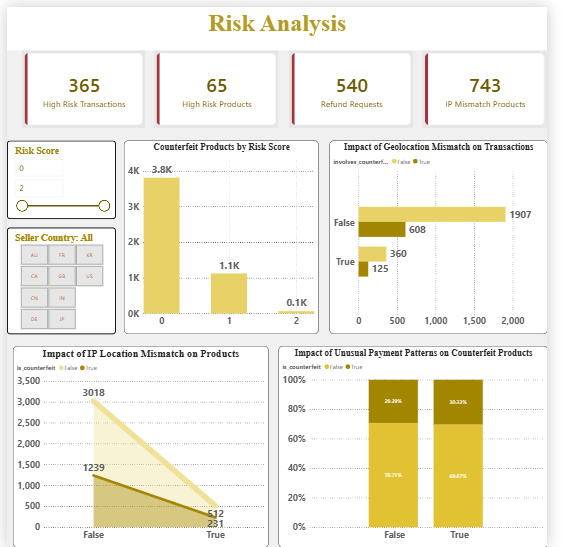

This screenshot's page, from the dashboard's own definition file:
{"tool":"powerbi","page":{"name":"Risk Analysis","canvas":[1200,1200],"ordinal":3},"visuals":[{"type":"textbox","box":[0,0,1200.9,96.4],"z":0},{"type":"cardVisual","fields":{"Data":["transcation.High Risk Transactions"]},"box":[33.9,96.4,273.5,171.9],"z":1000},{"type":"cardVisual","fields":{"Data":["product.High Risk Products"]},"box":[325.6,96.4,276.1,171.9],"z":2000},{"type":"cardVisual","fields":{"Data":["transcation.Refund Requests"]},"box":[625.2,96.4,276.1,171.9],"z":3000},{"type":"cardVisual","fields":{"Data":["transcation.IP Mismatch Products"]},"box":[924.8,96.4,276.1,171.9],"z":4000},{"type":"columnChart","title":"Counterfeit Products by Risk Score","fields":{"Category":["product.risk_score"],"Y":["CountNonNull(product.product_id)"]},"box":[260.5,297,432.4,429.8],"z":5000},{"type":"areaChart","title":"Impact of IP Location Mismatch on Products","fields":{"Category":["product.ip_location_mismatch"],"Y":["CountNonNull(product.product_id)"],"Series":["product.is_counterfeit"]},"box":[13,752.8,567.9,448.1],"z":6000},{"type":"clusteredBarChart","title":"Impact of Geolocation Mismatch on Transactions","fields":{"Category":["transcation.geolocation_mismatch"],"Y":["CountNonNull(transcation.transaction_id)"],"Series":["transcation.involves_counterfeit"]},"box":[716.4,297,484.5,429.8],"z":7000},{"type":"hundredPercentStackedColumnChart","title":"Impact of Unusual Payment Patterns on Counterfeit Products","fields":{"Category":["product.unusual_payment_patterns"],"Y":["CountNonNull(product.product_id)"],"Series":["product.is_counterfeit"]},"box":[601.8,752.8,599.1,448.1],"z":7001},{"type":"slicer","fields":{"Values":["product.risk_score"]},"box":[0,297,242.3,174.5],"z":7002},{"type":"slicer","fields":{"Values":["product.seller_country"]},"box":[0,489.7,242.3,237.1],"z":7003}]}

Visuals, with their boxes in screenshot pixels (x1, y1, x2, y2), scaled from the page's 1200x1200 canvas onto the 563x547 screenshot:
textbox: [0,0,562,44]
cardVisual - transcation.High Risk Transactions: [16,44,144,122]
cardVisual - product.High Risk Products: [153,44,282,122]
cardVisual - transcation.Refund Requests: [293,44,423,122]
cardVisual - transcation.IP Mismatch Products: [434,44,562,122]
"Counterfeit Products by Risk Score" columnChart: [122,135,325,331]
"Impact of IP Location Mismatch on Products" areaChart: [6,343,273,546]
"Impact of Geolocation Mismatch on Transactions" clusteredBarChart: [336,135,562,331]
"Impact of Unusual Payment Patterns on Counterfeit Products" hundredPercentStackedColumnChart: [282,343,562,546]
slicer - product.risk_score: [0,135,114,215]
slicer - product.seller_country: [0,223,114,331]
